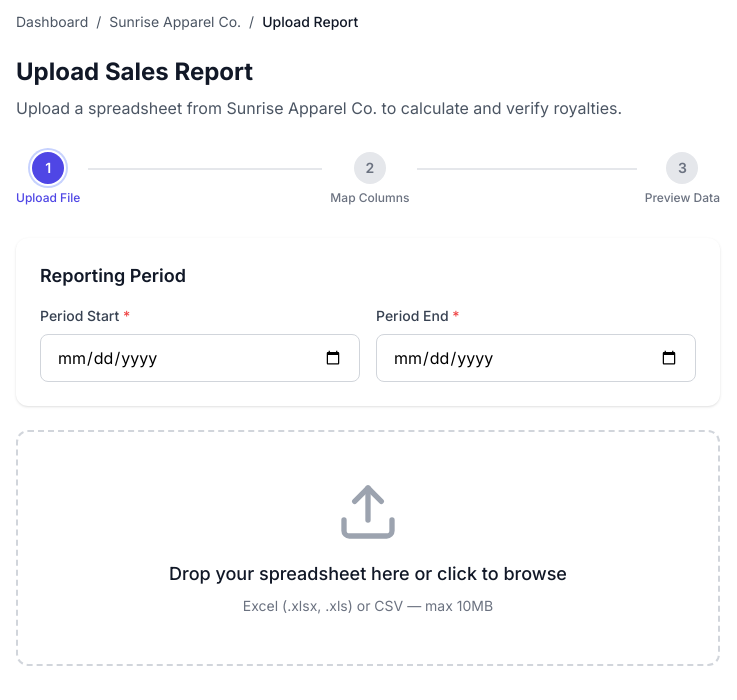
Scenario: Sales Upload Wizard — Gap 3: Contract date range and frequency validation › shows frequency mismatch warning when frequency_warning is set
This screenshot has width=737, height=700.
Type "2025-01-01" into the date field labelled "Period Start *". click: {"x": 200, "y": 358}
box: [40,334,360,382]
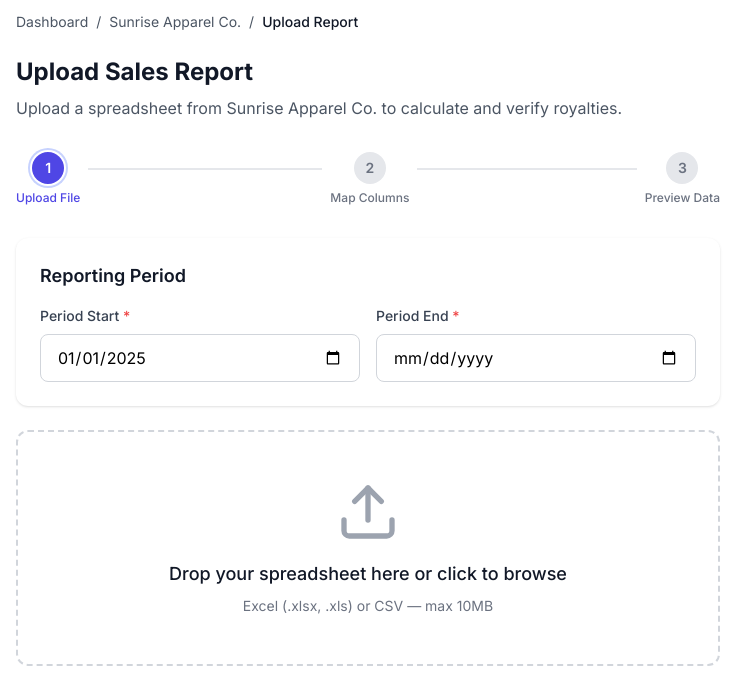
Type "2025-02-28" into the date field labelled "Period End *". click: {"x": 536, "y": 358}
box: [376,334,696,382]
Wait 400 ms
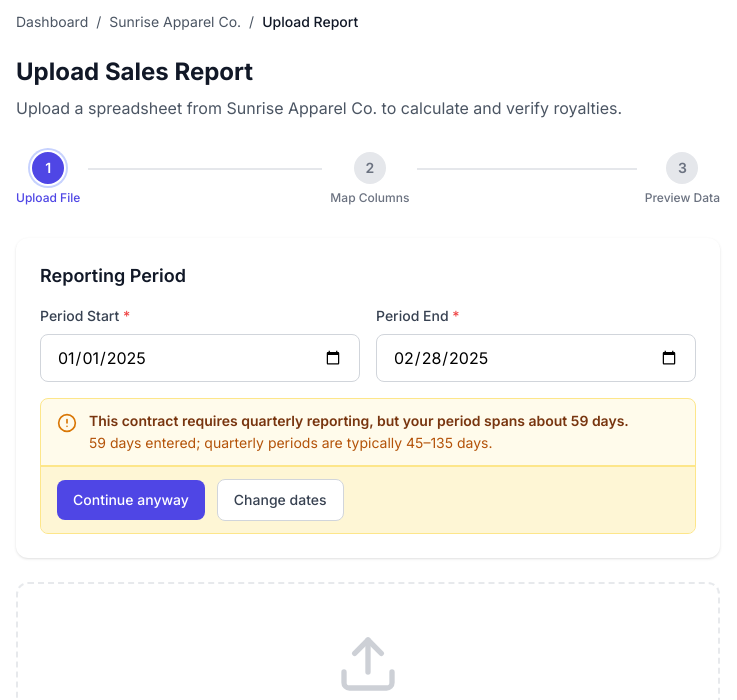
Result: the text "This contract requires quarterly reporting" is shown at [89,411,629,431]
